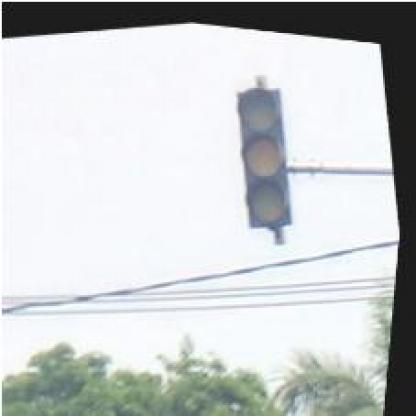yellow: (223, 74, 305, 226)
